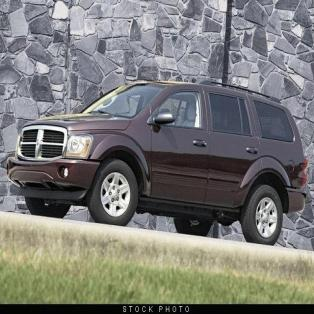Auto: (6, 79, 307, 246)
